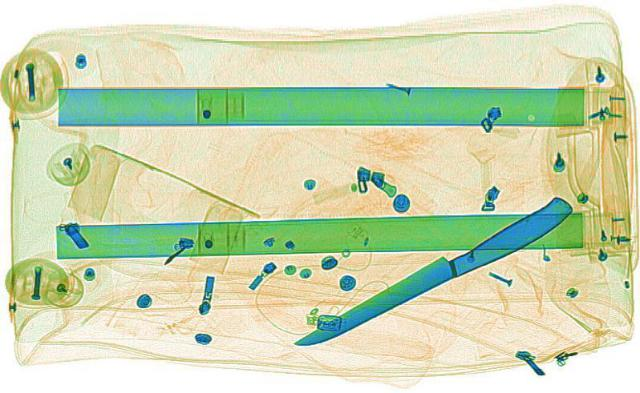Knife: (282, 195, 586, 356)
